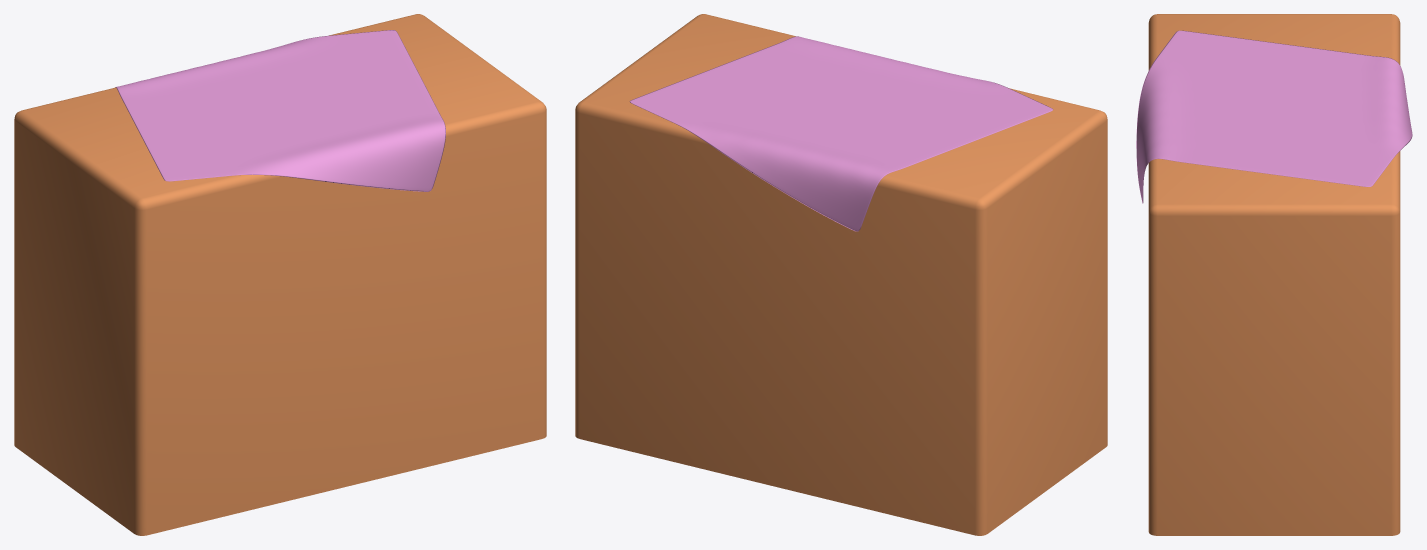
The model's file is Land2.fbx.
3 views of the same model, side by side, from view 1: azimuth 30°, elevation 25°; view 2: azimuth 150°, elevation 25°; view 3: azimuth 270°, elevation 25° (orthographic).
Parts seen in each view (by area): view 1: SM_Land_002; view 2: SM_Land_002; view 3: SM_Land_002.
Boxes of the visible parts, <box> form: SM_Land_002: <box>14,14,546,535</box>; SM_Land_002: <box>575,14,1107,535</box>; SM_Land_002: <box>1136,14,1412,535</box>.
Size of the model in its own units: 4299 by 3356 by 2546.
